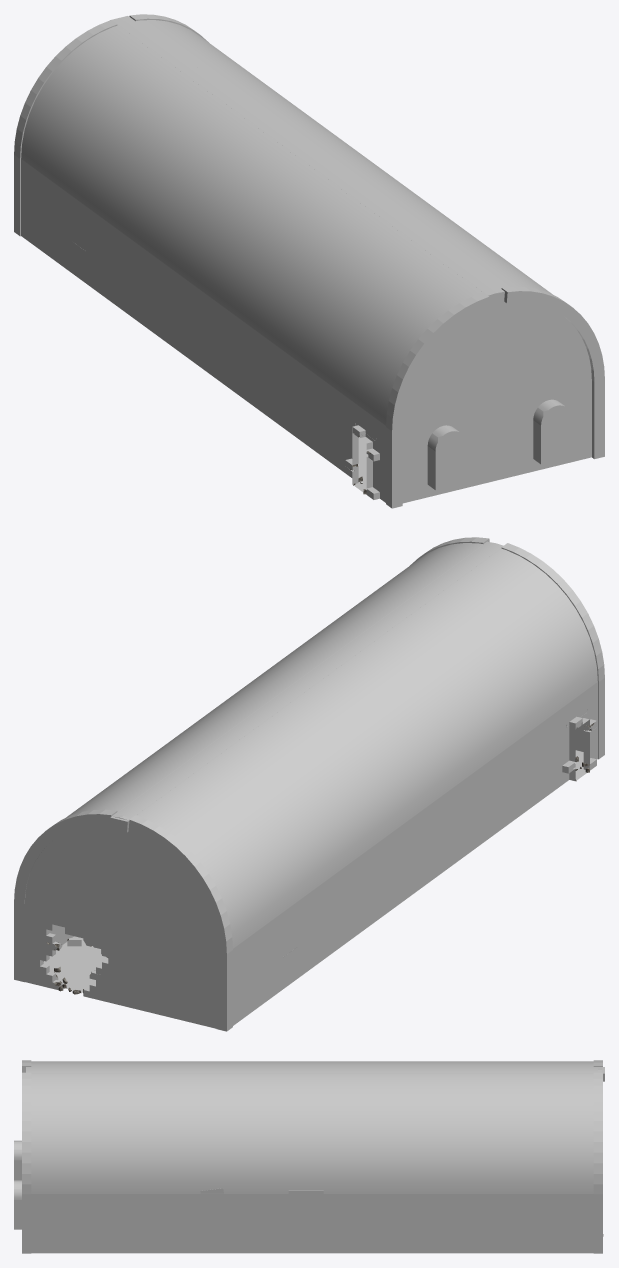
The model's file is Storageroom.fbx.
3 renders of one model, top to bottom at view 1: azimuth 30°, elevation 25°; view 2: azimuth 150°, elevation 25°; view 3: azimuth 270°, elevation 25°, orthographic. The views are drawn at different scales.
Parts seen in each view (by area): view 1: LODGroup_1_MainMesh_1_SubMesh_1; view 2: LODGroup_1_MainMesh_1_SubMesh_1, LODGroup_1_MainMesh_1_SubMesh_4; view 3: LODGroup_1_MainMesh_1_SubMesh_1, LODGroup_1_MainMesh_1_SubMesh_3, LODGroup_1_MainMesh_1_SubMesh_6.
Boxes of the visible parts, left/top/right/bottom form: LODGroup_1_MainMesh_1_SubMesh_1: left=14, top=14, right=604, bottom=508; LODGroup_1_MainMesh_1_SubMesh_1: left=14, top=537, right=604, bottom=1031; LODGroup_1_MainMesh_1_SubMesh_4: left=43, top=750, right=586, bottom=992; LODGroup_1_MainMesh_1_SubMesh_1: left=14, top=1060, right=604, bottom=1253; LODGroup_1_MainMesh_1_SubMesh_3: left=118, top=1190, right=323, bottom=1215; LODGroup_1_MainMesh_1_SubMesh_6: left=200, top=1188, right=408, bottom=1219.
Size of the model in its own units: 1043 by 857 by 3161.
